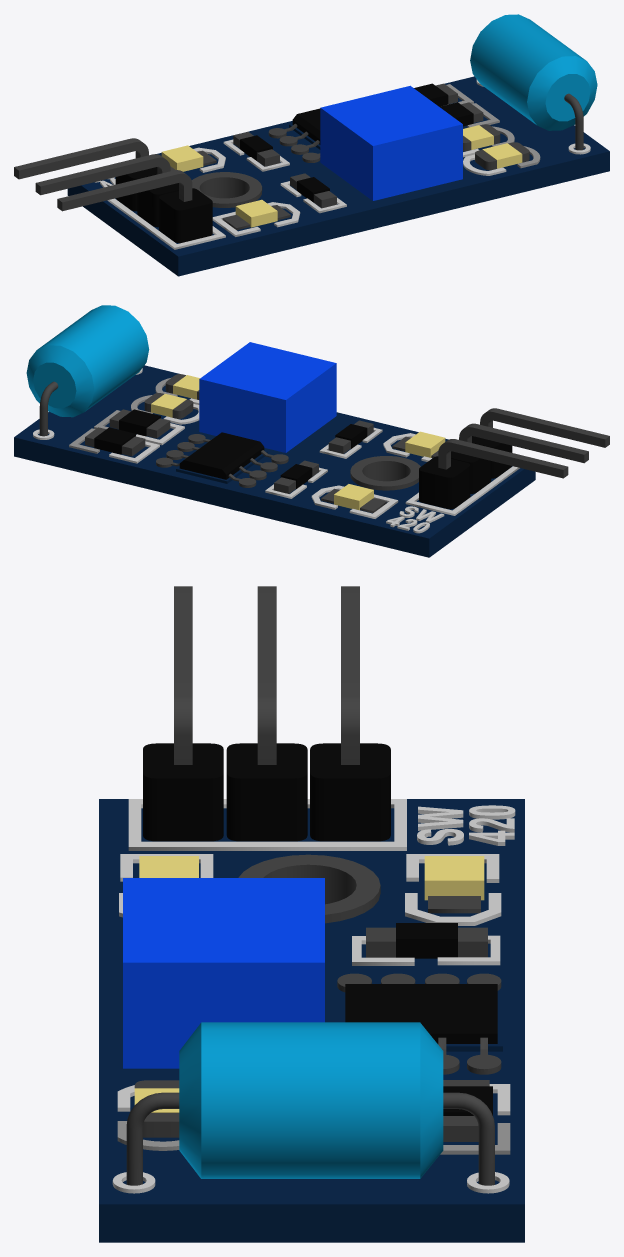
3 views of the same model, one above another, from view 1: azimuth 30°, elevation 25°; view 2: azimuth 150°, elevation 25°; view 3: azimuth 270°, elevation 25° (orthographic). The views are drawn at different scales.
Size of the model in its own units: 128 by 22.68 by 45.31.
